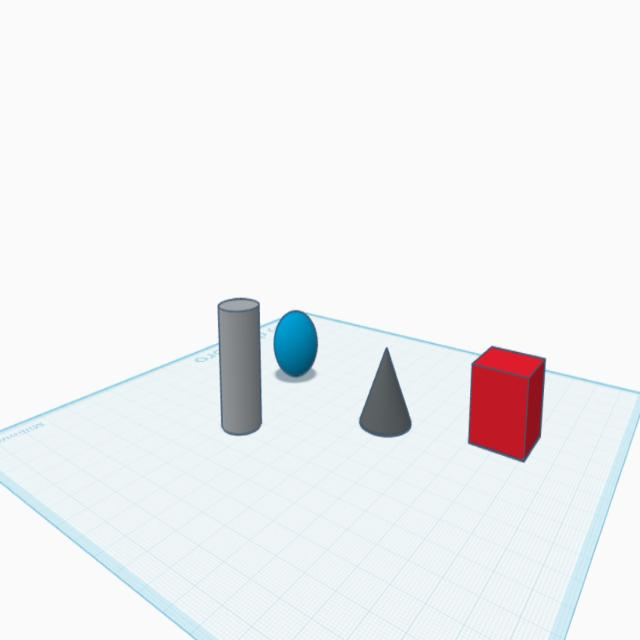cube: (467, 333, 547, 463)
sphere: (357, 342, 413, 441), (273, 307, 318, 382)
